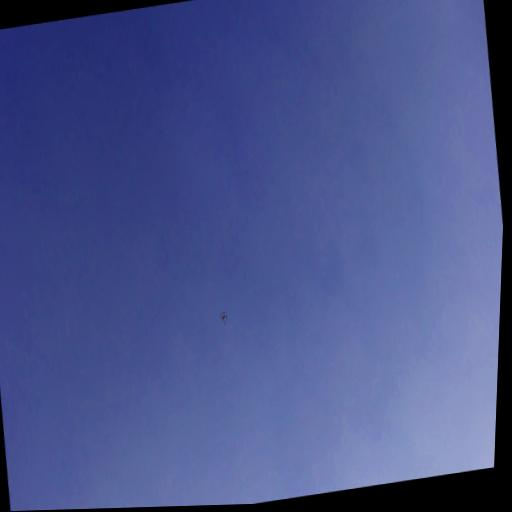drones: (218, 308, 229, 327)
